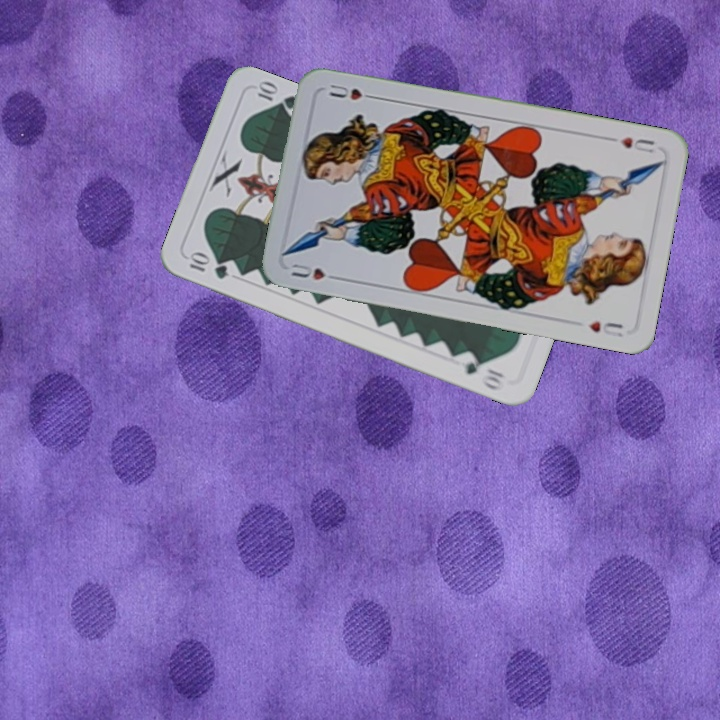G10: (183, 249, 231, 282)
HU: (286, 259, 344, 283), (604, 133, 658, 155)
